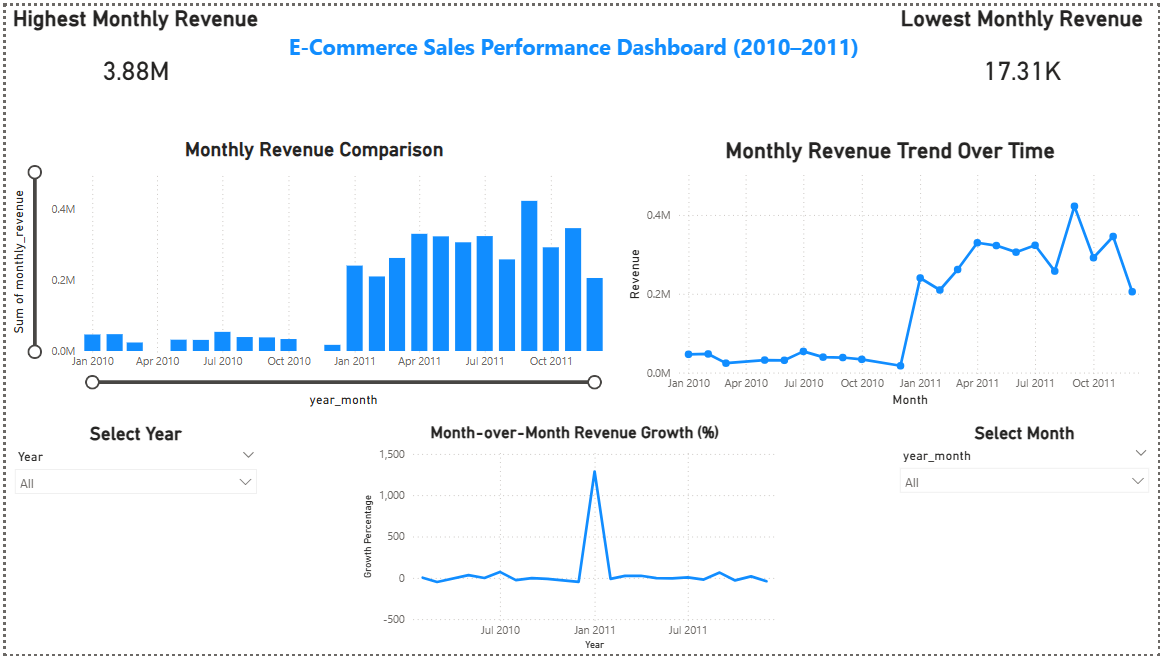

The page's visual inventory and layout, read from the dashboard file:
{"tool":"powerbi","page":{"name":"Executive Dashboard","canvas":[1280,720],"ordinal":0},"visuals":[{"type":"lineChart","title":"Monthly Revenue Trend Over Time","fields":{"Category":["monthly_revenue_summary.year_month"],"Y":["Sum(monthly_revenue_summary.monthly_revenue)"]},"box":[685,146.7,595,303.3],"z":0},{"type":"card","title":"Highest Monthly Revenue","fields":{"Values":["Sum(monthly_revenue_summary.monthly_revenue)"]},"box":[0,0,288,112],"z":1000},{"type":"clusteredColumnChart","title":"Monthly Revenue Comparison","fields":{"Category":["monthly_revenue_summary.year_month","monthly_business_insights.year_month.Variation.Date Hierarchy.Year","monthly_business_insights.year_month.Variation.Date Hierarchy.Quarter","monthly_business_insights.year_month.Variation.Date Hierarchy.Month","monthly_business_insights.year_month.Variation.Date Hierarchy.Day"],"Y":["Sum(monthly_revenue_summary.monthly_revenue)"]},"box":[0,146.7,685,303.3],"z":2000},{"type":"lineChart","title":"Month-over-Month Revenue Growth (%)","fields":{"Category":["monthly_business_insights.year_month.Variation.Date Hierarchy.Year","monthly_business_insights.year_month.Variation.Date Hierarchy.Quarter","monthly_business_insights.year_month.Variation.Date Hierarchy.Month","monthly_business_insights.year_month.Variation.Date Hierarchy.Day"],"Y":["Sum(monthly_business_insights.growth_percentage)"]},"box":[391.7,463.3,480,256.7],"z":3000},{"type":"card","title":"Lowest Monthly Revenue","fields":{"Values":["Sum(monthly_revenue_summary.monthly_revenue)"]},"box":[976,0,304,112],"z":4000},{"type":"slicer","title":"Select Year","fields":{"Values":["monthly_business_insights.year_month.Variation.Date Hierarchy.Year"]},"box":[0,463.3,288.3,128.3],"z":5000},{"type":"slicer","title":"Select Month","fields":{"Values":["monthly_business_insights.year_month"]},"box":[983.3,463.3,296.7,128.3],"z":6000},{"type":"textbox","box":[303.3,23.3,655,56.7],"z":8000}]}

Visuals, with their boxes in screenshot pixels (x1, y1, x2, y2), scaled from the page's 1280x720 canvas onto the 1162x658 screenshot:
"Monthly Revenue Trend Over Time" lineChart: [left=622, top=134, right=1161, bottom=411]
"Highest Monthly Revenue" card: [left=0, top=0, right=261, bottom=102]
"Monthly Revenue Comparison" clusteredColumnChart: [left=0, top=134, right=622, bottom=411]
"Month-over-Month Revenue Growth (%)" lineChart: [left=356, top=423, right=791, bottom=657]
"Lowest Monthly Revenue" card: [left=886, top=0, right=1161, bottom=102]
"Select Year" slicer: [left=0, top=423, right=262, bottom=541]
"Select Month" slicer: [left=893, top=423, right=1161, bottom=541]
textbox: [left=275, top=21, right=870, bottom=73]
